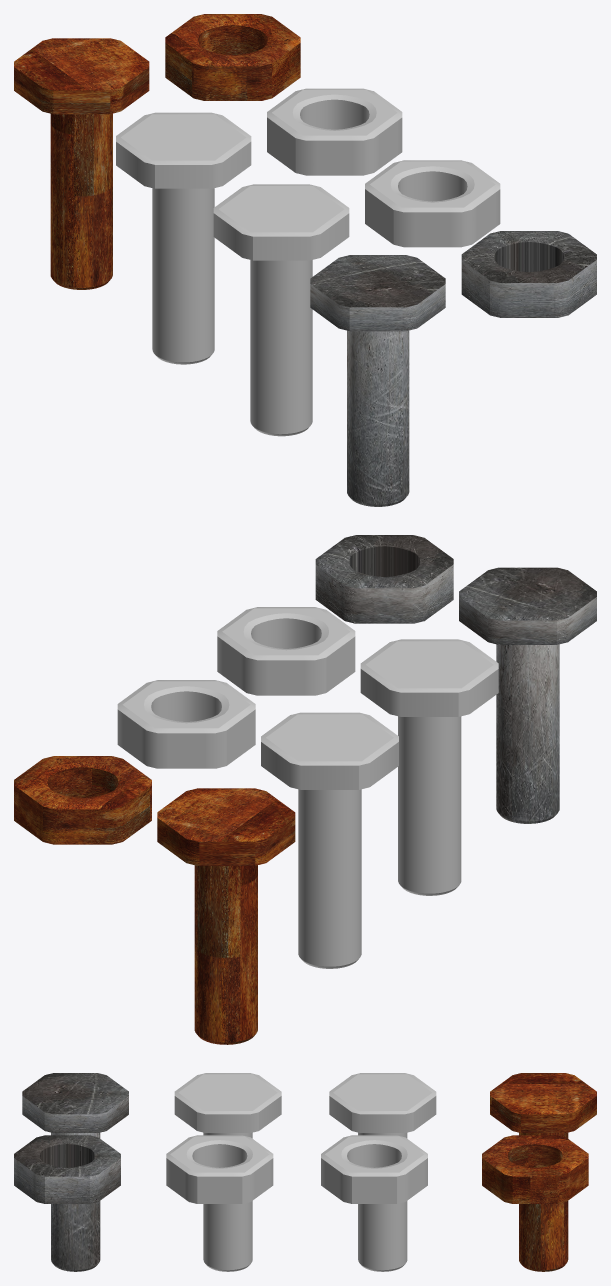
Rendered from csavar.fbx.
3 renders of one model, top to bottom at view 1: azimuth 30°, elevation 25°; view 2: azimuth 150°, elevation 25°; view 3: azimuth 270°, elevation 25°, orthographic. The views are drawn at different scales.
Parts seen in each view (by area): view 1: Henger.003, Henger.002, Henger.009, Henger.008, Henger.005, Henger.006, Henger, Henger.011, Henger.007, Henger.004, Henger.001, Henger.010; view 2: Henger.003, Henger.002, Henger.008, Henger.009, Henger.006, Henger.005, Henger.011, Henger, Henger.001, Henger.007, Henger.004, Henger.010; view 3: Henger.006, Henger, Henger.005, Henger.011, Henger.007, Henger.004, Henger.010, Henger.001, Henger.003, Henger.009, Henger.008, Henger.002.
Boxes of the visible parts, x1,y1,x2,y2 form: Henger.003: [152, 188, 214, 364]; Henger.002: [50, 113, 112, 289]; Henger.009: [347, 330, 409, 506]; Henger.008: [250, 260, 312, 436]; Henger.005: [267, 88, 402, 175]; Henger.006: [365, 160, 500, 247]; Henger: [165, 14, 300, 100]; Henger.011: [461, 231, 596, 317]; Henger.007: [213, 184, 349, 260]; Henger.004: [116, 112, 251, 188]; Henger.001: [14, 38, 149, 114]; Henger.010: [310, 255, 445, 331]; Henger.003: [298, 789, 361, 968]; Henger.002: [194, 865, 257, 1044]; Henger.008: [398, 716, 461, 895]; Henger.009: [496, 644, 559, 823]; Henger.006: [217, 607, 355, 695]; Henger.005: [117, 680, 255, 768]; Henger.011: [315, 535, 453, 623]; Henger: [14, 756, 151, 844]; Henger.001: [157, 788, 295, 865]; Henger.007: [360, 639, 498, 716]; Henger.004: [261, 712, 398, 789]; Henger.010: [459, 567, 596, 644]; Henger.006: [166, 1135, 273, 1203]; Henger: [482, 1135, 588, 1203]; Henger.005: [321, 1135, 427, 1203]; Henger.011: [14, 1135, 120, 1203]; Henger.007: [174, 1073, 281, 1132]; Henger.004: [329, 1073, 436, 1132]; Henger.010: [22, 1073, 128, 1132]; Henger.001: [490, 1073, 596, 1132]; Henger.003: [358, 1132, 407, 1271]; Henger.009: [51, 1132, 100, 1271]; Henger.008: [203, 1132, 252, 1271]; Henger.002: [519, 1132, 568, 1271].
Size of the model in its own units: 410 by 333 by 1036.
